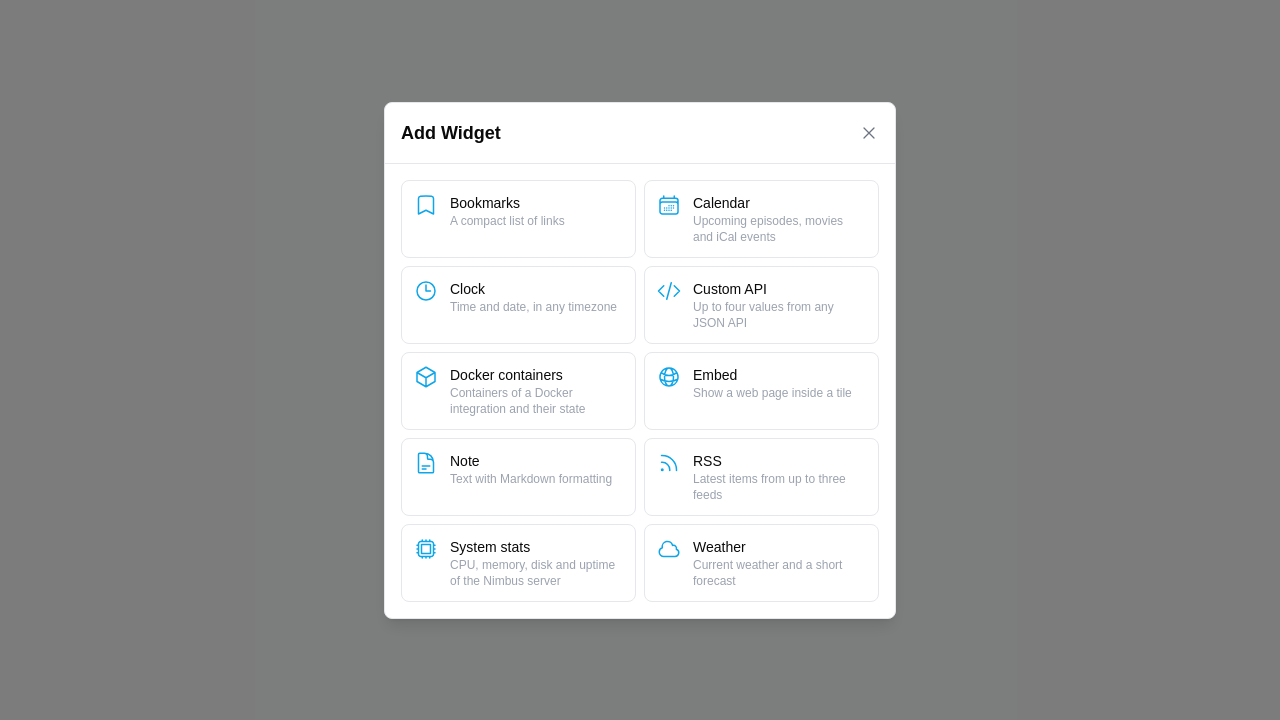
Scenario: WidgetModal › shows the backend error and stays open
The image size is (1280, 720).
Click the text "Embed" at (715, 374), box [693, 366, 737, 382]
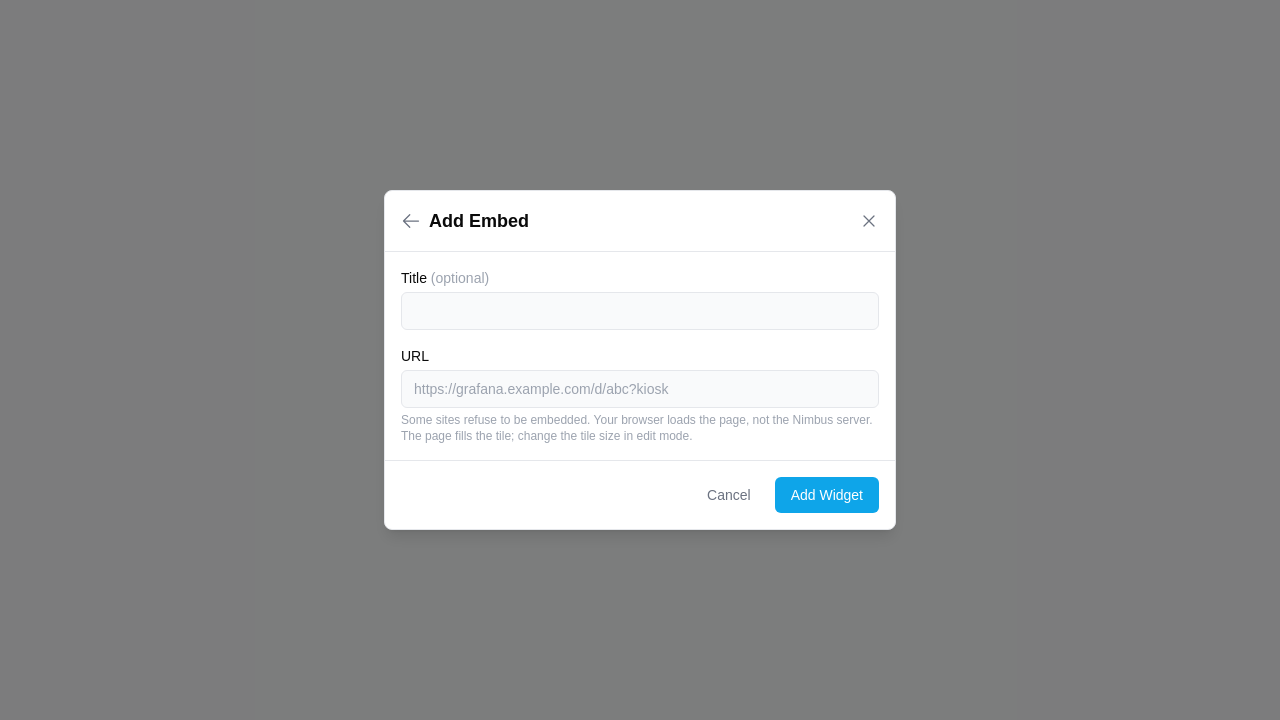
Click the button "Add Widget" at (827, 495), box [775, 477, 879, 513]
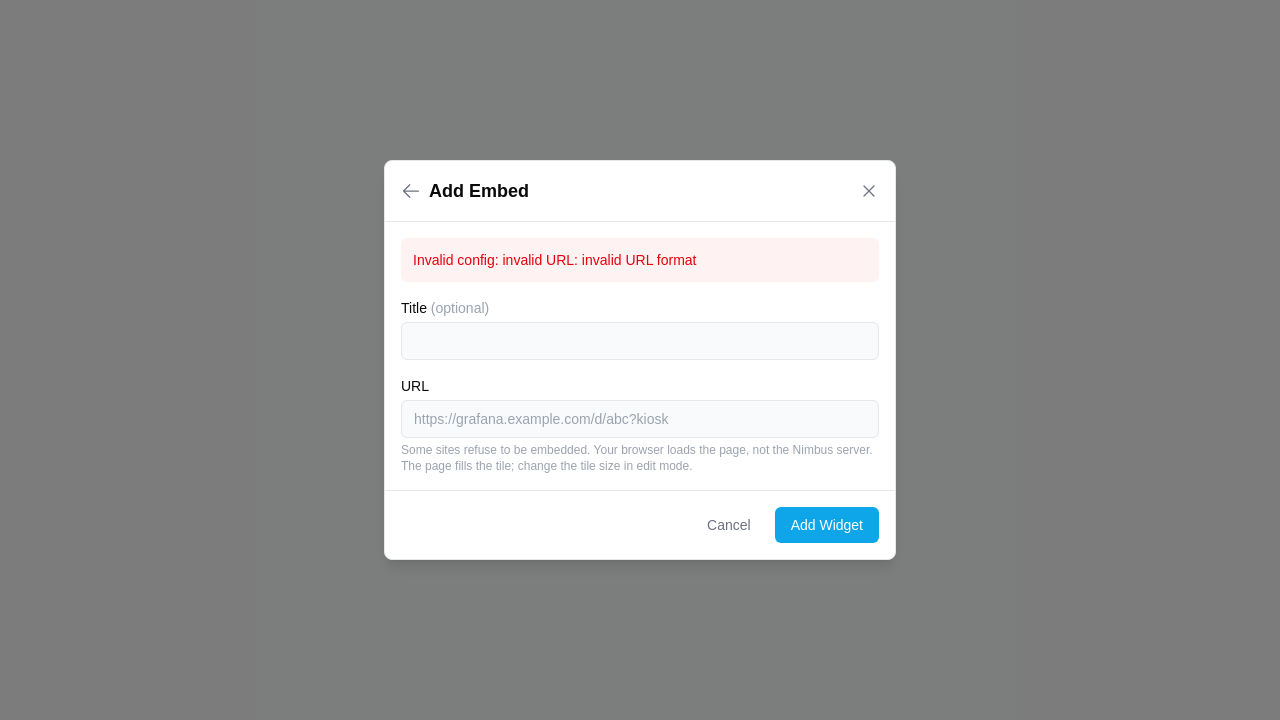
Expected: the text "Invalid config: invalid URL: invalid URL format" is shown, [401, 238, 879, 282]
